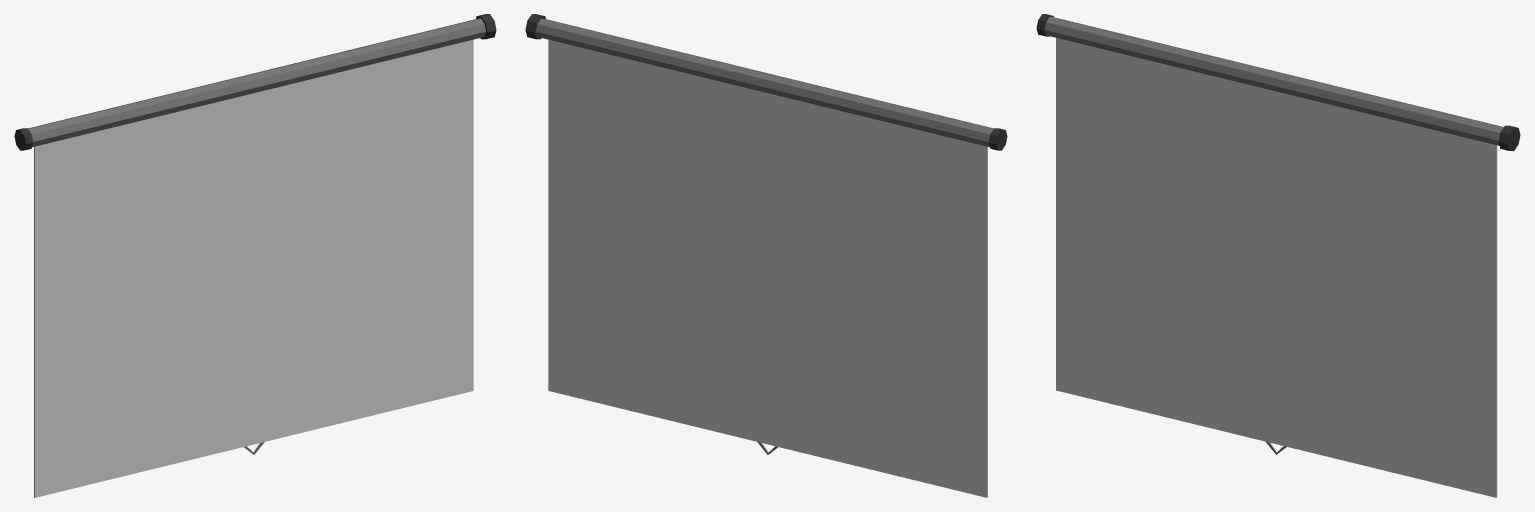
The model's file is Projector Canvas.fbx.
3 views of the same model, side by side, from view 1: azimuth 30°, elevation 25°; view 2: azimuth 150°, elevation 25°; view 3: azimuth 330°, elevation 25° (orthographic).
Visible parts, largest first — view 1: Cylinder.004; view 2: Cylinder.004; view 3: Cylinder.004.
Part boxes in pixels (bbox=[...]): Cylinder.004: bbox=[14, 14, 496, 497]; Cylinder.004: bbox=[525, 14, 1007, 497]; Cylinder.004: bbox=[1036, 14, 1520, 497].
Bounding box in the file's own units: 376 × 293 × 17.8.
